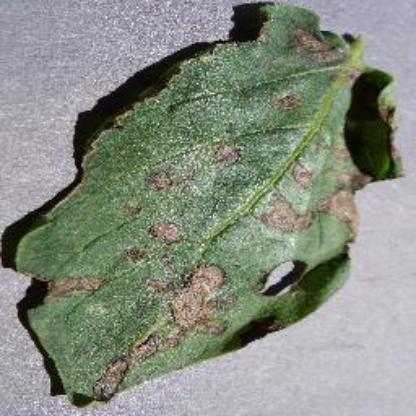Early-Blight: (12, 12, 412, 406)
